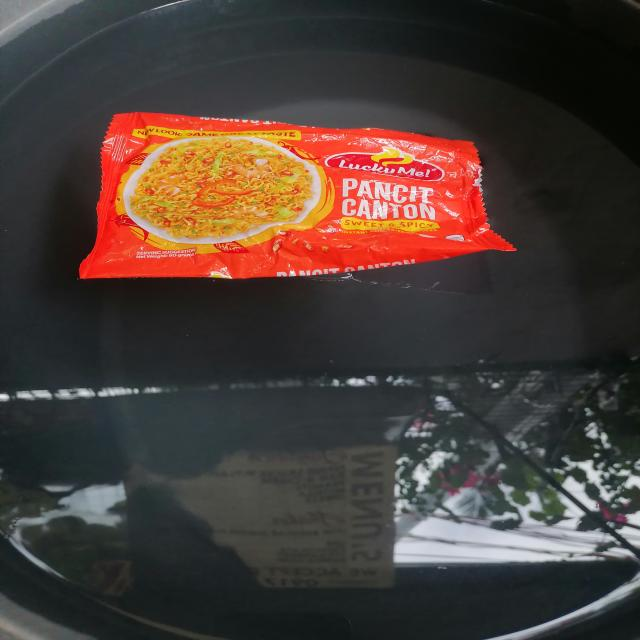Plastic Wrapper: (79, 112, 516, 279)
